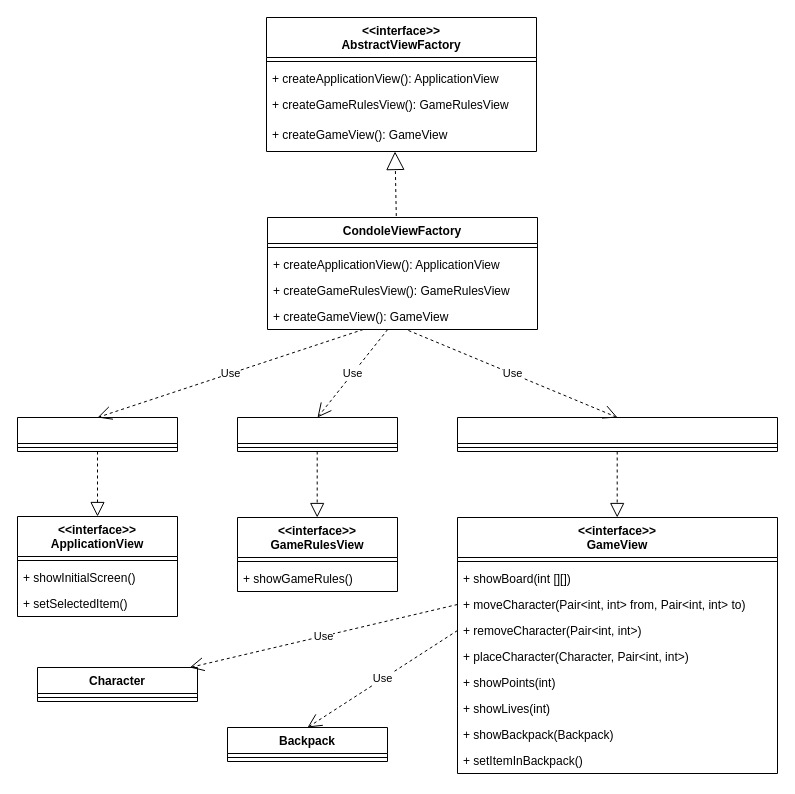
Some shapes in this 795 by 794 pixel diagram are drawn without their labels. Each missing label, with the centre of its shape:
"ApplicationViewConsole" belongs at pixel 97 434.
"GameRulesViewConsole" belongs at pixel 317 434.
"GameViewConsole" belongs at pixel 617 434.
